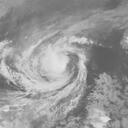cyclone: (1, 17, 91, 117)
